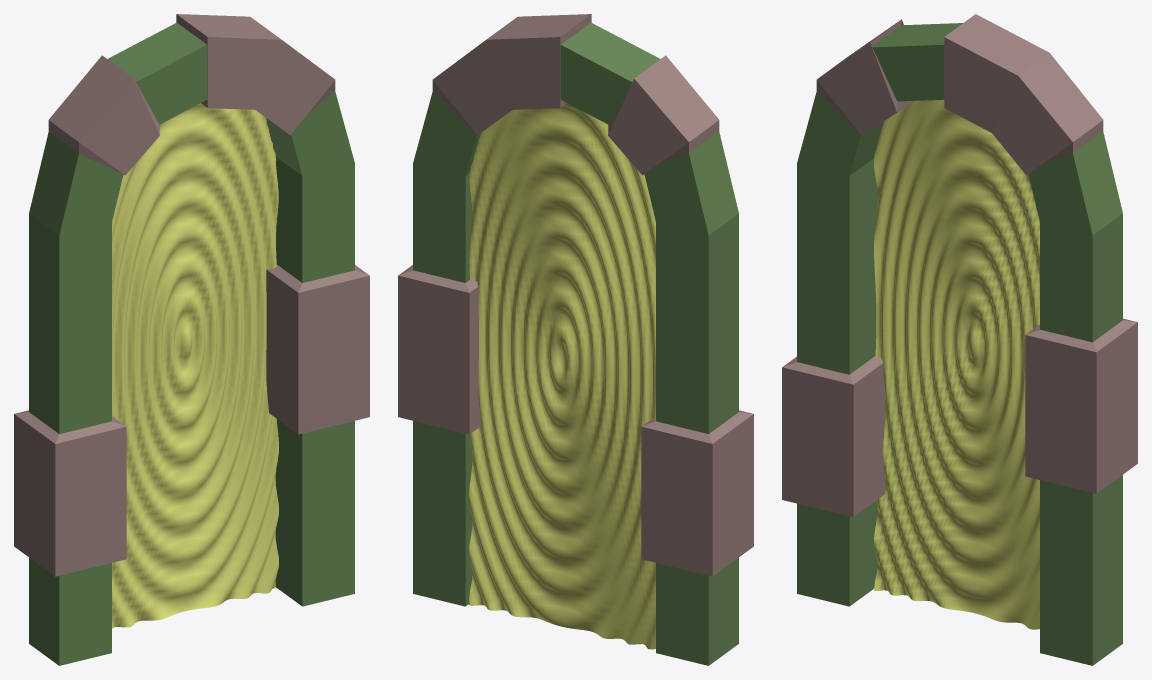
File: Portal.fbx
3 renders of one model, left to right at view 1: azimuth 30°, elevation 25°; view 2: azimuth 150°, elevation 25°; view 3: azimuth 330°, elevation 25°, orthographic.
Visible parts, largest first — view 1: Cube.003, Plane; view 2: Cube.003, Plane; view 3: Cube.003, Plane.
Boxes of the visible parts, bbox=[...] form: Cube.003: bbox=[14, 14, 369, 665]; Plane: bbox=[112, 103, 278, 628]; Cube.003: bbox=[398, 14, 753, 665]; Plane: bbox=[469, 102, 655, 649]; Cube.003: bbox=[782, 14, 1137, 665]; Plane: bbox=[874, 99, 1039, 629].
Bounding box in the file's own units: 3.75 × 6.77 × 0.8508.
